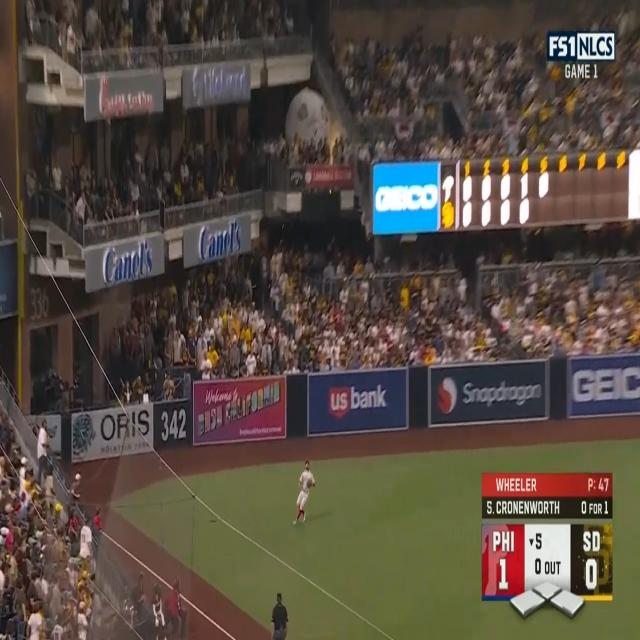baseball: (329, 189, 332, 194)
